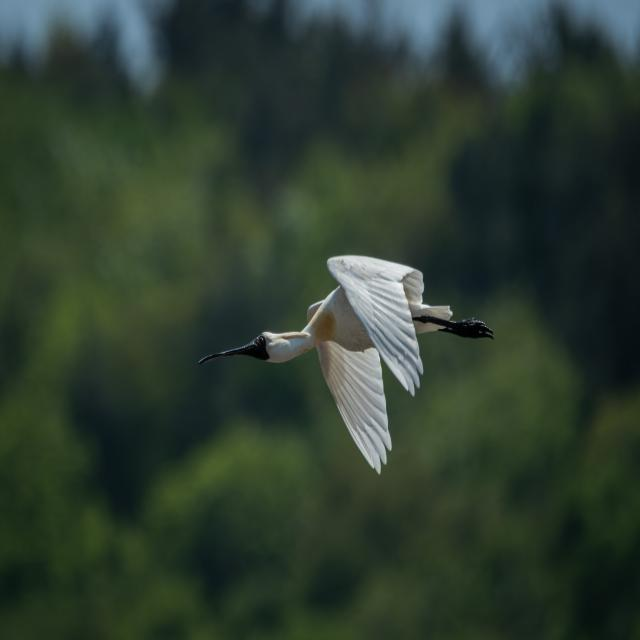Black-faced spoonbill: (200, 256, 492, 473)
